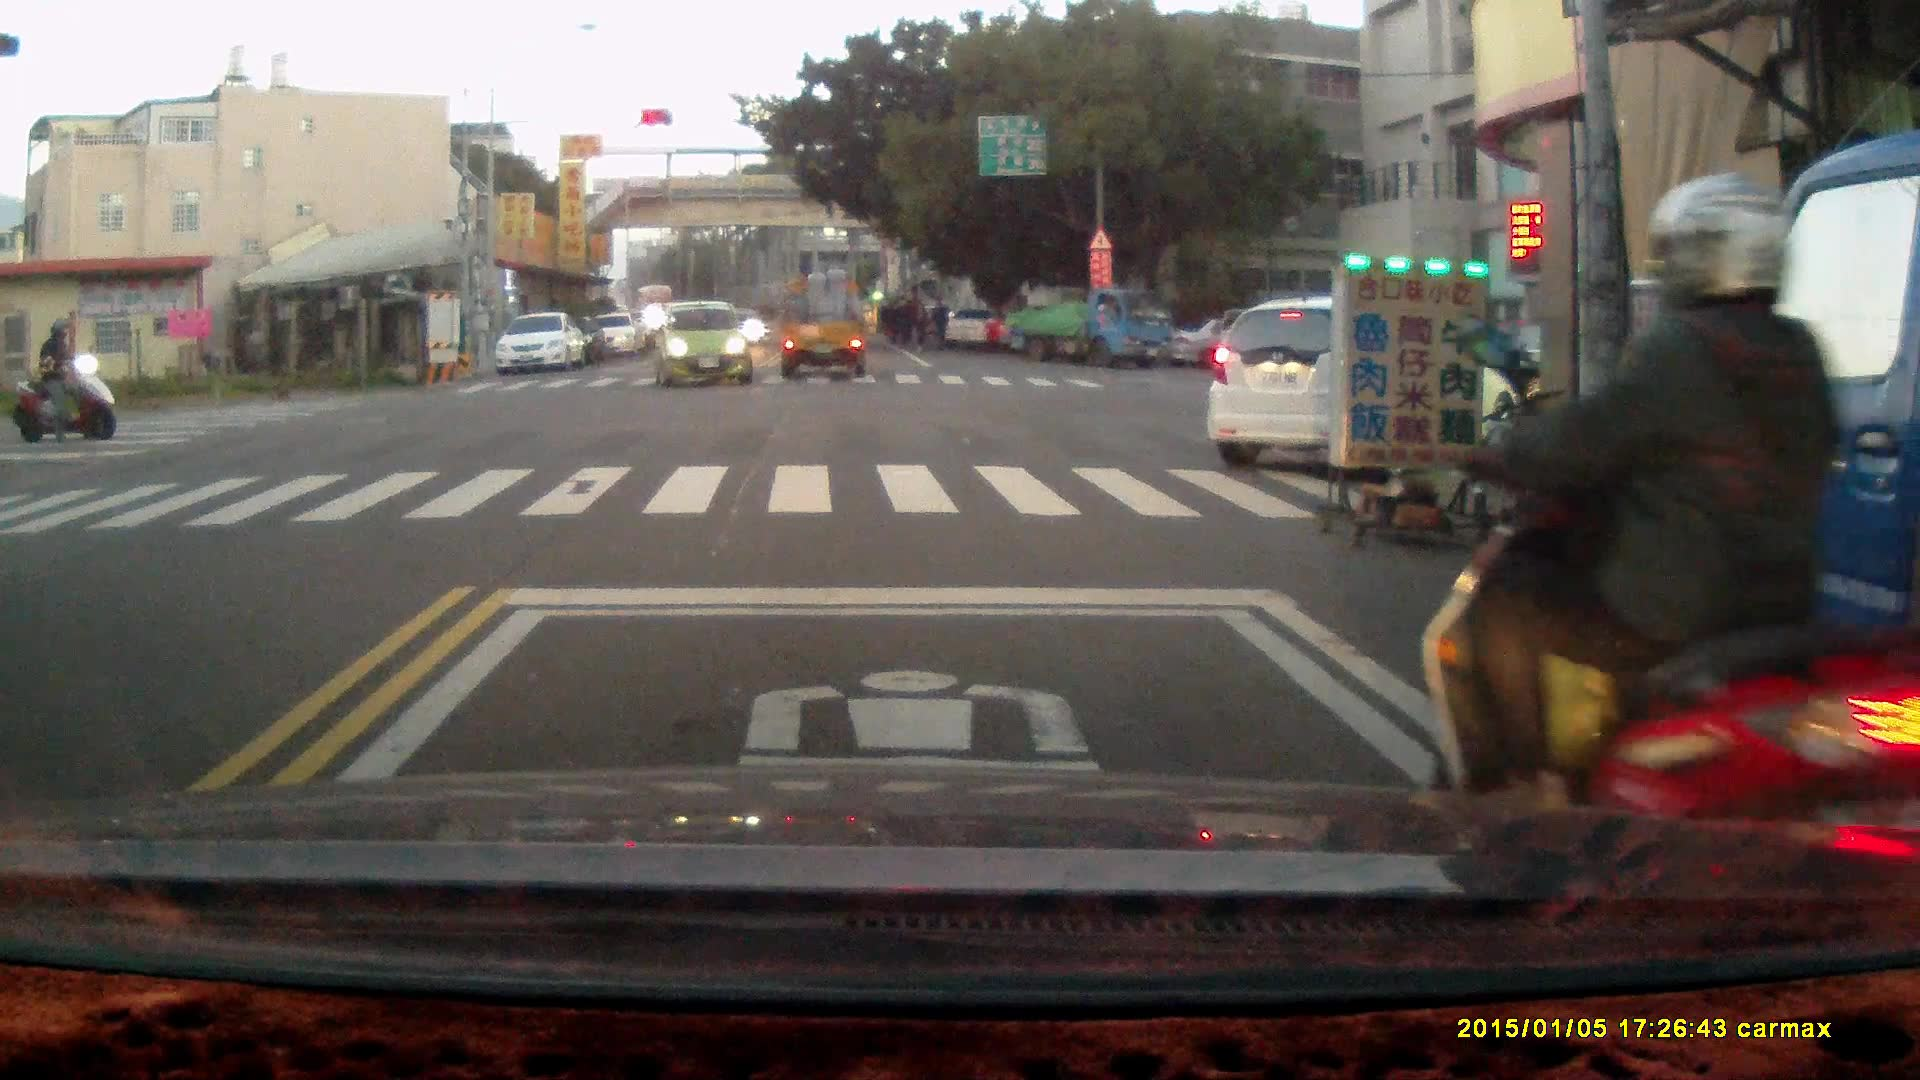rider: (1411, 168, 1910, 944), (10, 316, 119, 440)
vehicle: (1599, 132, 1920, 916), (1205, 293, 1517, 466), (1002, 284, 1175, 367), (781, 262, 872, 383), (660, 297, 762, 390), (499, 313, 587, 378), (592, 311, 642, 360)
